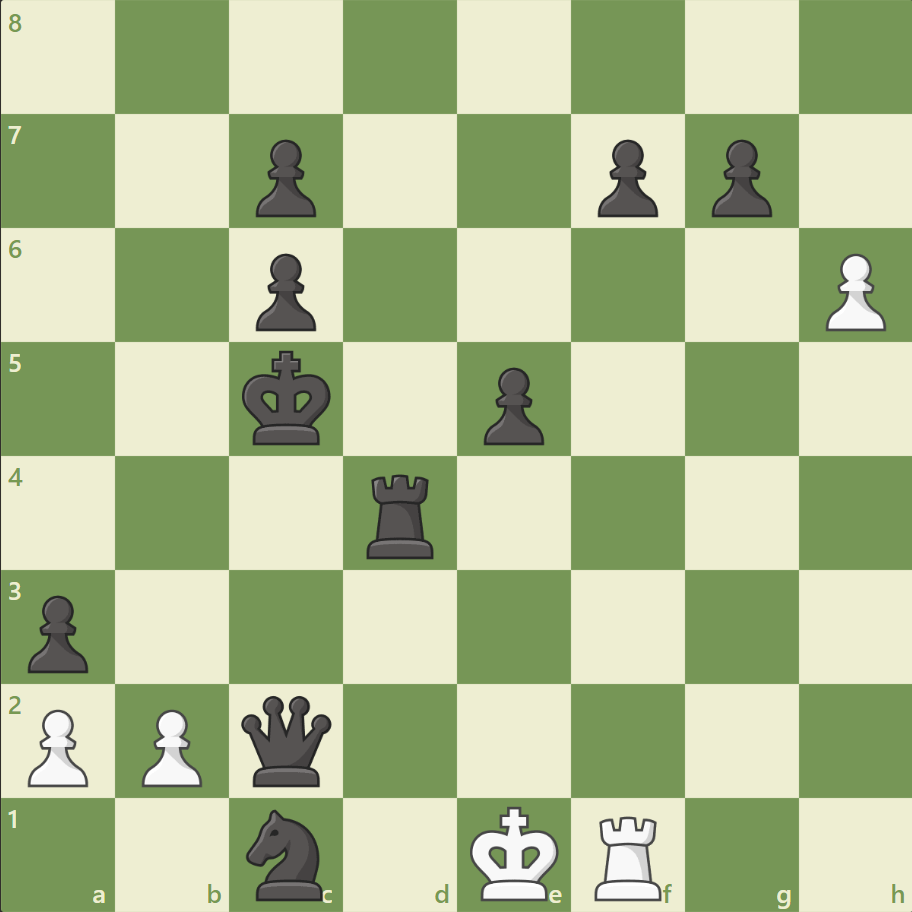K: (465, 798, 565, 906)
P: (20, 700, 95, 791), (133, 700, 208, 791), (815, 246, 889, 337)
R: (587, 806, 670, 904)
k: (238, 344, 338, 452)
n: (238, 802, 335, 904)
p: (247, 132, 322, 223), (701, 132, 776, 223), (247, 246, 322, 337), (474, 359, 549, 450), (20, 586, 95, 677), (588, 132, 662, 223)
q: (237, 690, 336, 789)
r: (360, 466, 442, 563)
